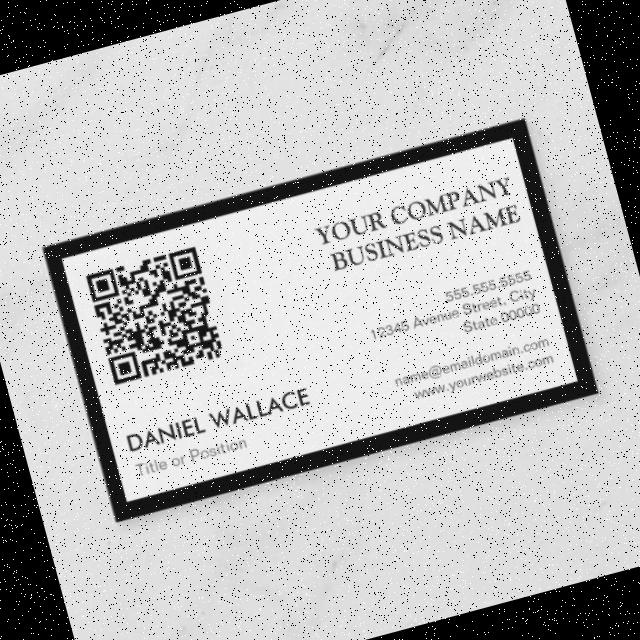QR-codes: (84, 243, 228, 387)
